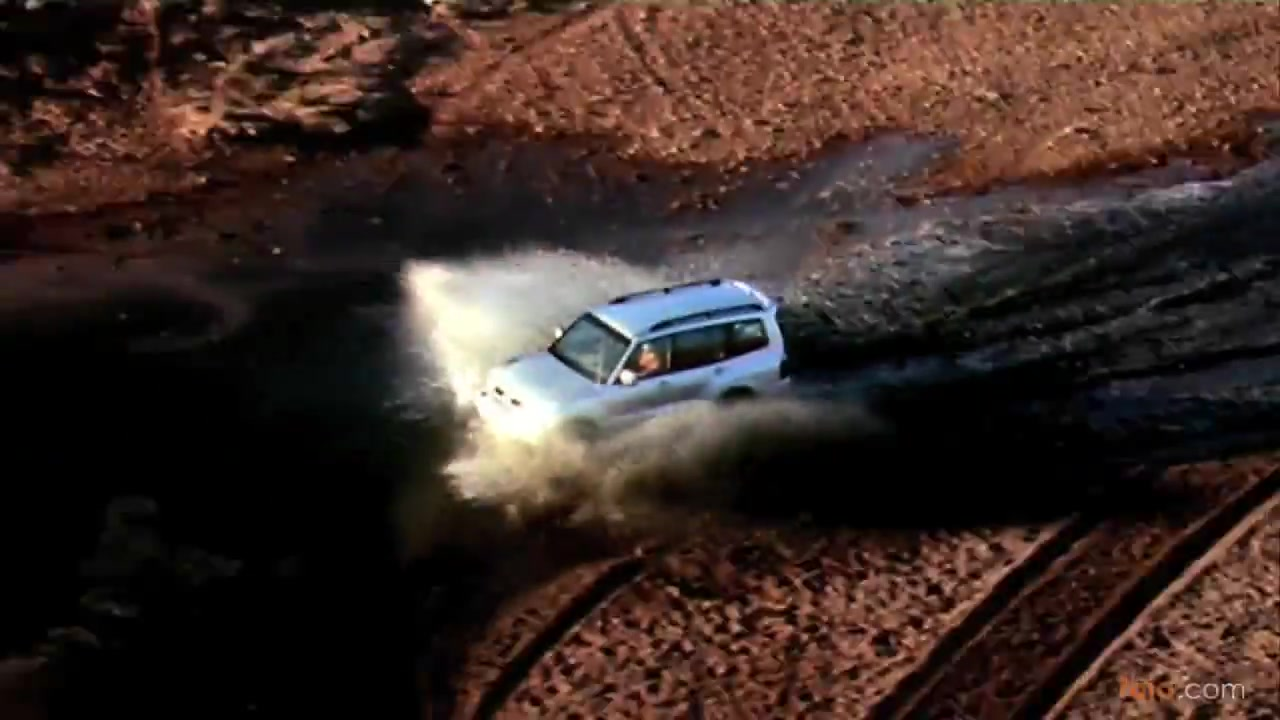car: (479, 274, 795, 455)
